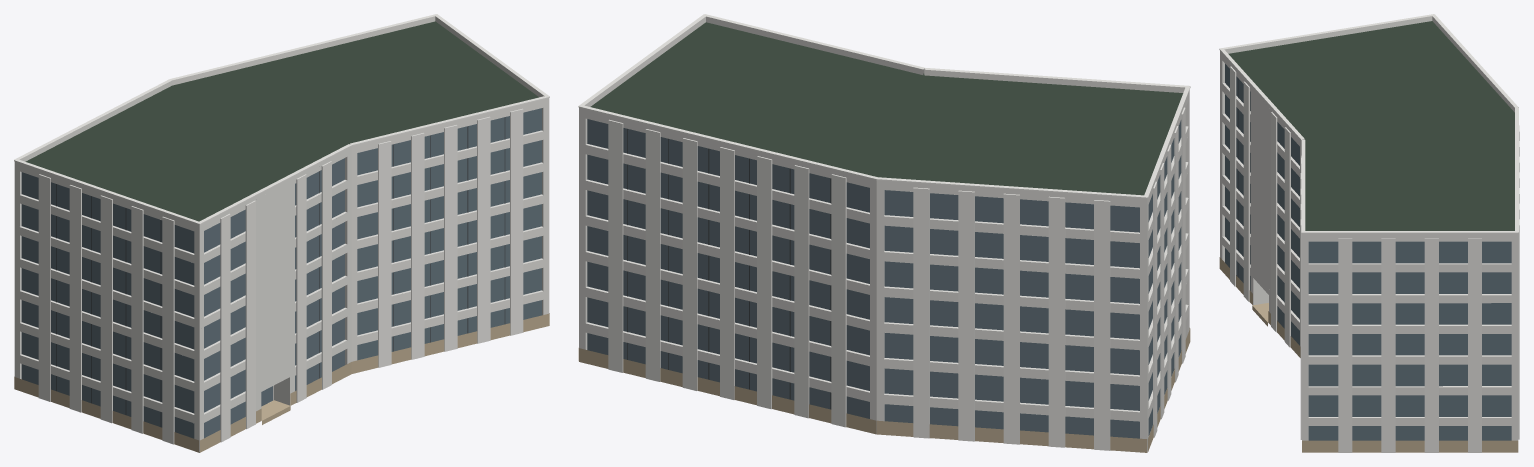
3 renders of one model, left to right at view 1: azimuth 30°, elevation 25°; view 2: azimuth 150°, elevation 25°; view 3: azimuth 270°, elevation 25°, orthographic. The views are drawn at different scales.
Parts seen in each view (by area): view 1: eh204__glass, eh204__roof, eh204__trim, eh204__wall, eh204__parapet, eh204__base, eh204__frame; view 2: eh204__glass, eh204__trim, eh204__roof, eh204__wall, eh204__parapet, eh204__base, eh204__frame; view 3: eh204__roof, eh204__glass, eh204__trim, eh204__wall, eh204__parapet, eh204__base.
Boxes of the visible parts, x1,y1,x2,y2 form: eh204__glass: (21, 108, 541, 438); eh204__roof: (25, 21, 538, 452); eh204__trim: (14, 14, 549, 444); eh204__wall: (14, 102, 549, 452); eh204__parapet: (14, 16, 549, 228); eh204__base: (14, 313, 549, 452); eh204__frame: (56, 117, 505, 426); eh204__glass: (587, 119, 1181, 438); eh204__trim: (578, 14, 1190, 450); eh204__roof: (590, 22, 1183, 195); eh204__wall: (579, 93, 1189, 451); eh204__parapet: (579, 16, 1189, 202); eh204__base: (578, 328, 1190, 452); eh204__frame: (627, 129, 831, 409); eh204__roof: (1228, 21, 1514, 230); eh204__glass: (1225, 64, 1511, 440); eh204__trim: (1219, 14, 1519, 452); eh204__wall: (1220, 54, 1518, 440); eh204__parapet: (1220, 16, 1518, 237); eh204__base: (1219, 257, 1518, 452).
Bounding box in the file's own units: 47.42 × 22.6 × 27.45.
